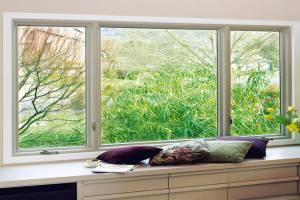window: (4, 12, 294, 144)
